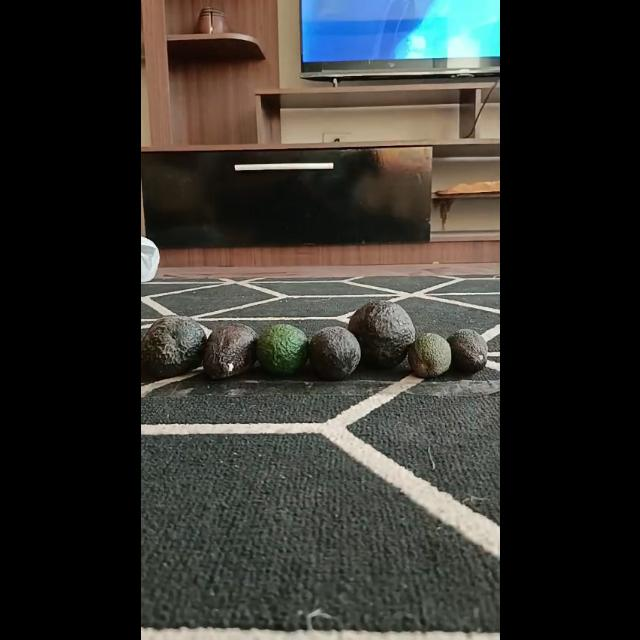Primera: (347, 299, 415, 367), (140, 316, 206, 378)
Segunda: (202, 322, 258, 380), (308, 326, 362, 379), (256, 324, 308, 374)
Tercera: (407, 332, 451, 378), (444, 328, 486, 374)
